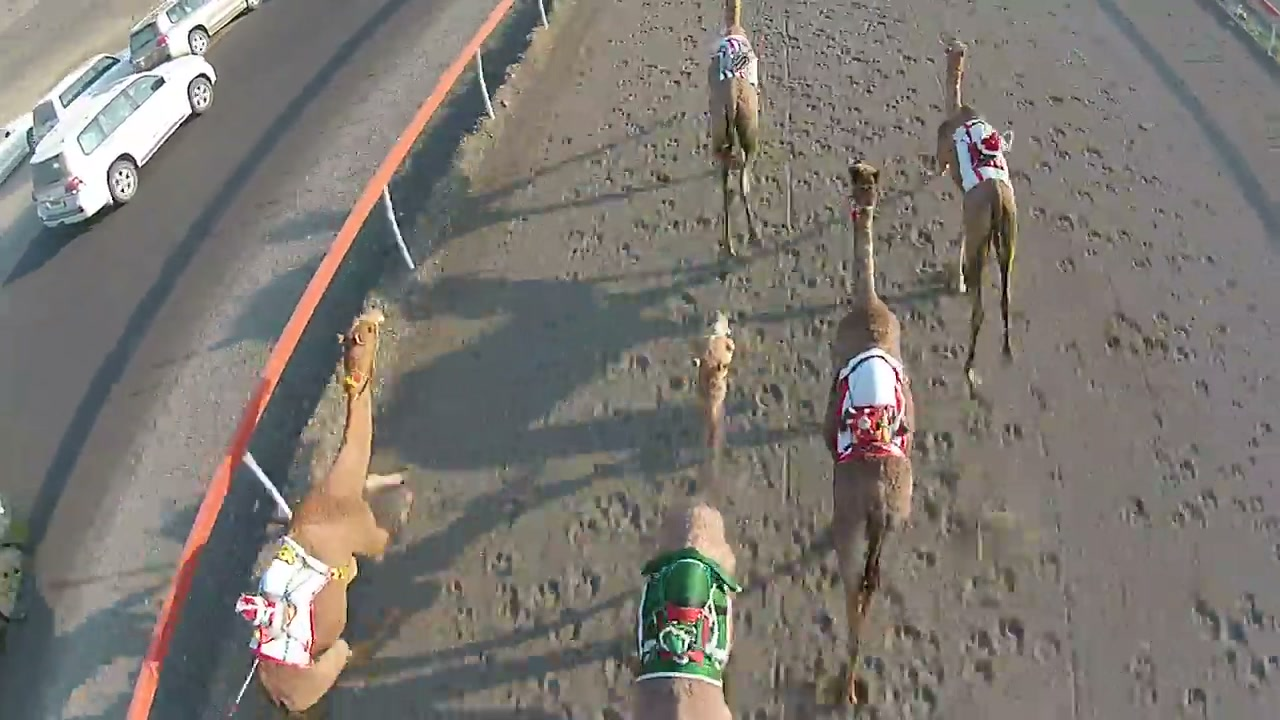animal_footprint: (437, 24, 699, 718), (1026, 24, 1246, 673), (855, 33, 1053, 715), (722, 36, 842, 691)
